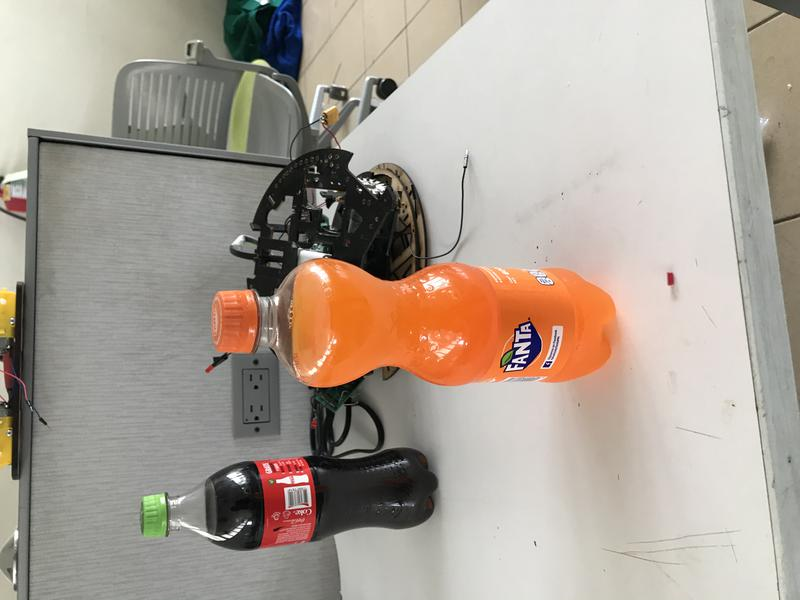coca_cola: (141, 447, 438, 551)
fanta: (210, 259, 617, 388)
